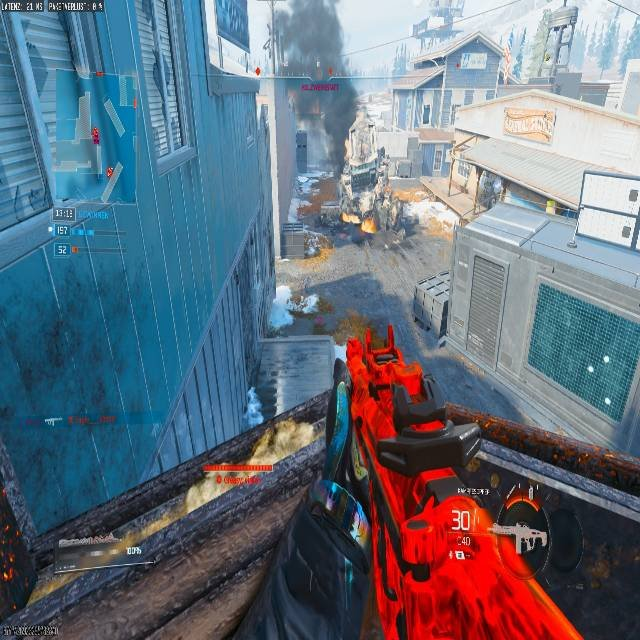player: (303, 228, 319, 257)
